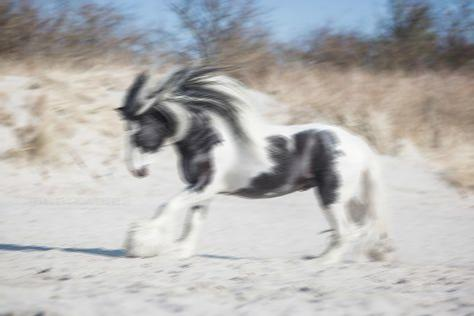horse: (113, 58, 394, 264)
